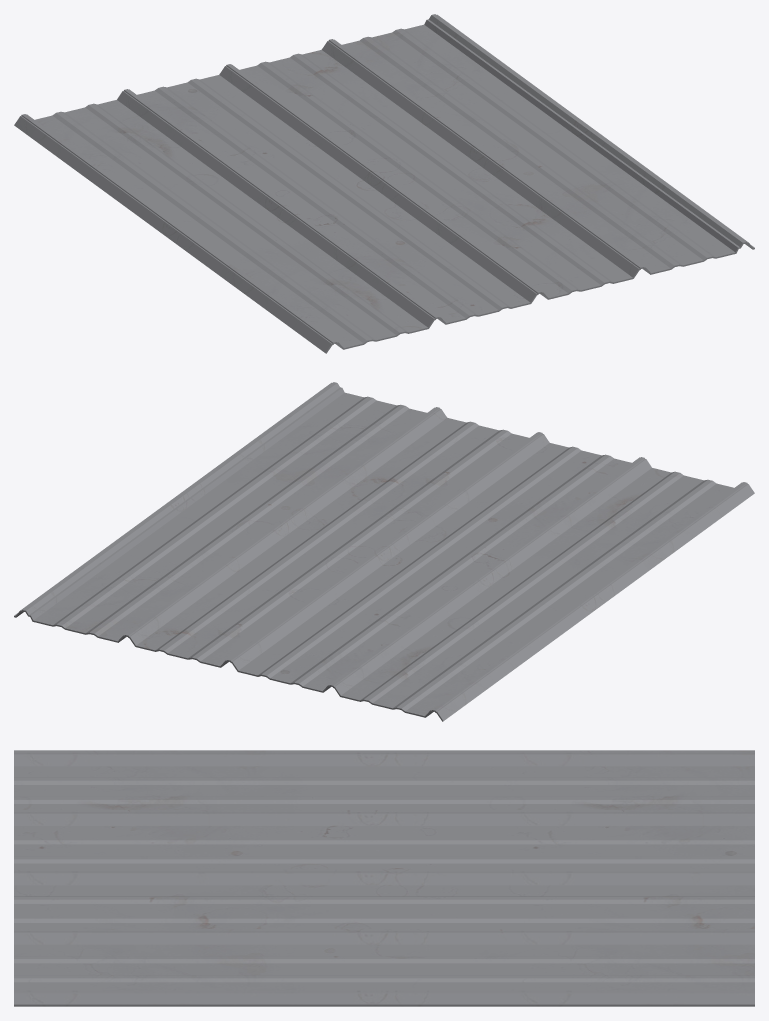
Rendered from klip_lockclassic_roof_rib_steel_sheet.glb.
3 renders of one model, top to bottom at view 1: azimuth 30°, elevation 25°; view 2: azimuth 150°, elevation 25°; view 3: azimuth 270°, elevation 25°, orthographic. The views are drawn at different scales.
Parts seen in each view (by area): view 1: Object_2; view 2: Object_2; view 3: Object_2.
Boxes of the visible parts, bbox=[...] form: Object_2: bbox=[14, 14, 754, 353]; Object_2: bbox=[14, 382, 754, 721]; Object_2: bbox=[14, 750, 754, 1006].
Bounding box in the file's own units: 95.56 × 2.03 × 120.
1 material, 1 textured.
